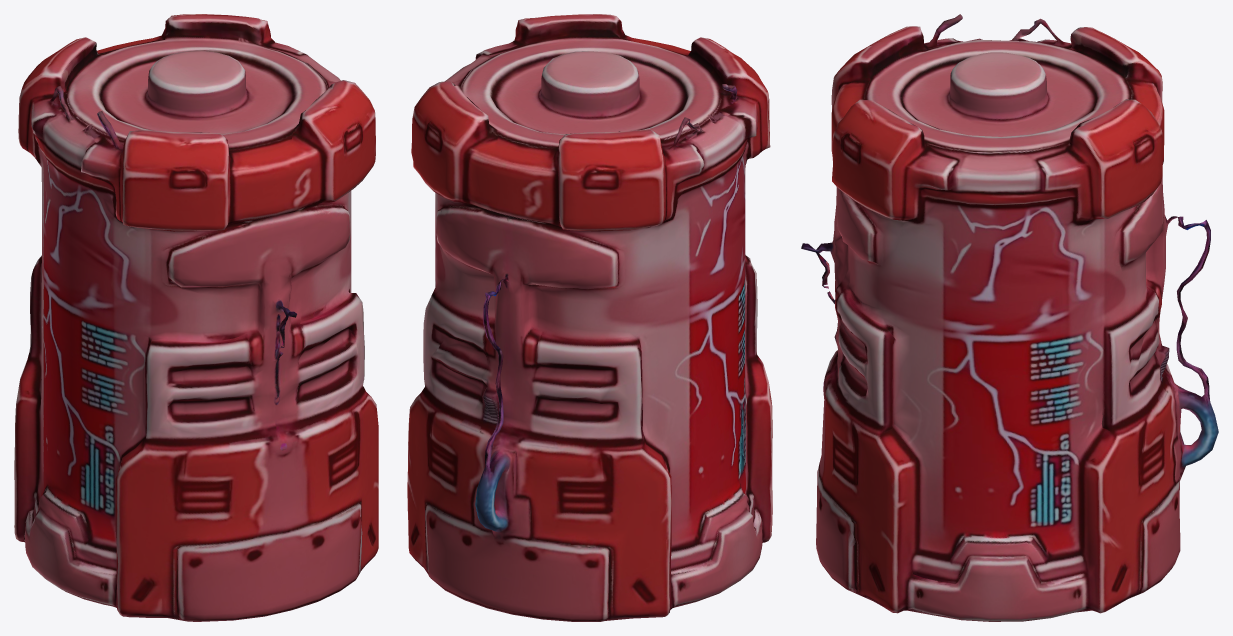
The model's file is largeBattery.fbx.
The picture shows the model from 3 angles, left to right: view 1: azimuth 30°, elevation 25°; view 2: azimuth 150°, elevation 25°; view 3: azimuth 270°, elevation 25°; orthographic projection.
Visible parts, largest first — view 1: tripo_node_429576d1; view 2: tripo_node_429576d1; view 3: tripo_node_429576d1.
Part boxes in pixels (x1,y1,x2,y2): tripo_node_429576d1: (14,14,378,621); tripo_node_429576d1: (407,14,772,621); tripo_node_429576d1: (801,14,1218,621).
Bounding box in the file's own units: 0.6579 × 0.9995 × 0.7822.
1 material, 1 textured.
